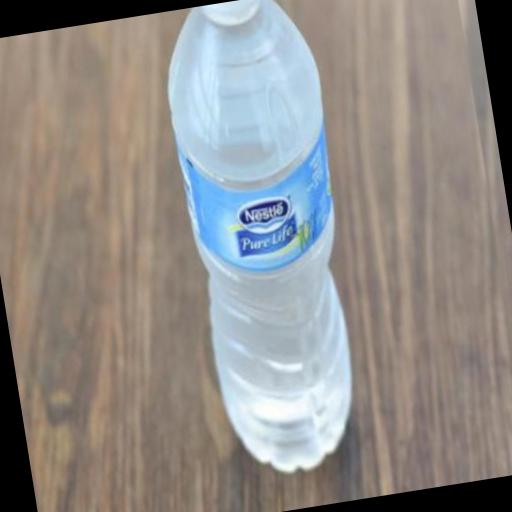Coca: (146, 0, 383, 495)
